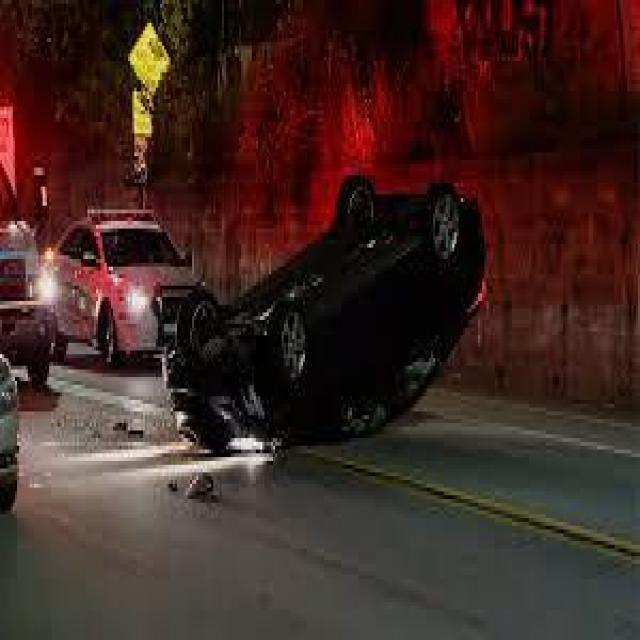accident: (163, 154, 492, 448)
